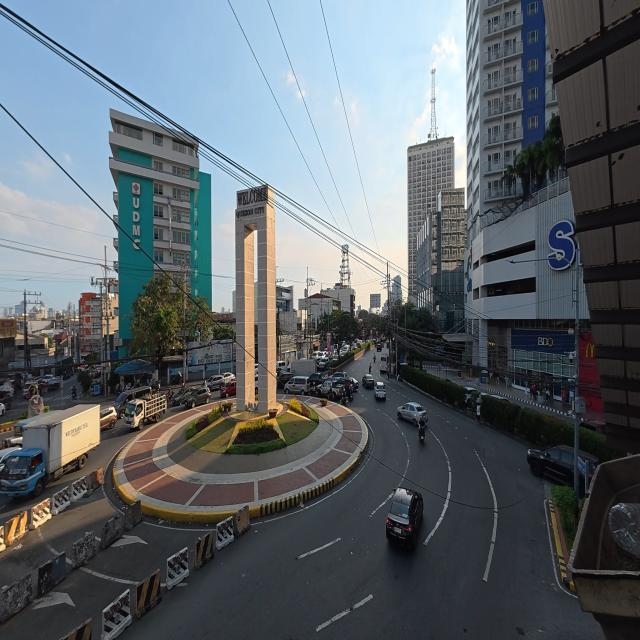car: (398, 403, 429, 428), (375, 384, 387, 399), (362, 376, 374, 389)
